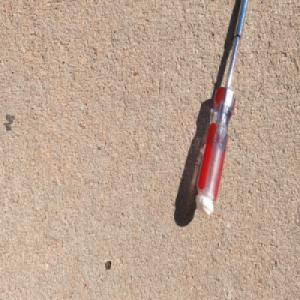Screwdriver: (194, 0, 250, 218)
